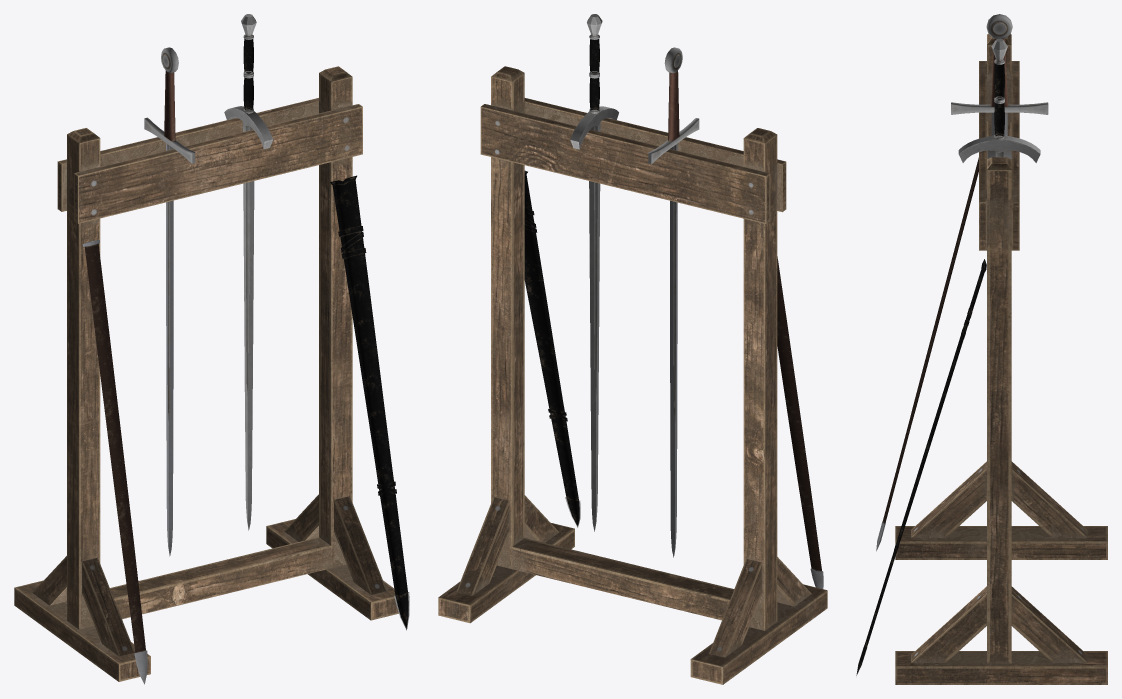
Rendered from sword.obj.
The picture shows the model from 3 angles, left to right: view 1: azimuth 30°, elevation 25°; view 2: azimuth 150°, elevation 25°; view 3: azimuth 270°, elevation 25°; orthographic projection.
Visible parts, largest first — view 1: obj15, obj1, obj10, obj7, obj13, obj9, obj11, obj2; view 2: obj15, obj1, obj10, obj7, obj13, obj9, obj11, obj2; view 3: obj15, obj1, obj10, obj9, obj14, obj2, obj12.
Boxes of the visible parts, x1,y1,x2,y2 form: obj15: [14, 66, 398, 681]; obj1: [330, 175, 409, 630]; obj10: [82, 240, 147, 684]; obj7: [243, 122, 254, 530]; obj13: [166, 143, 173, 556]; obj9: [224, 106, 273, 149]; obj11: [164, 70, 175, 140]; obj2: [243, 39, 253, 110]; obj15: [438, 66, 827, 684]; obj1: [524, 170, 580, 527]; obj10: [777, 256, 823, 588]; obj7: [589, 122, 600, 531]; obj13: [670, 143, 677, 557]; obj9: [570, 106, 618, 149]; obj11: [668, 70, 679, 141]; obj2: [589, 39, 599, 110]; obj15: [895, 34, 1107, 684]; obj1: [856, 259, 986, 675]; obj10: [876, 157, 978, 551]; obj9: [958, 135, 1040, 162]; obj14: [951, 102, 1048, 114]; obj2: [994, 64, 1004, 136]; obj12: [986, 14, 1012, 38].
Size of the model in its own units: 0.7506 by 1.47 by 0.5652.
Materials: 3 (3 with a texture image).
